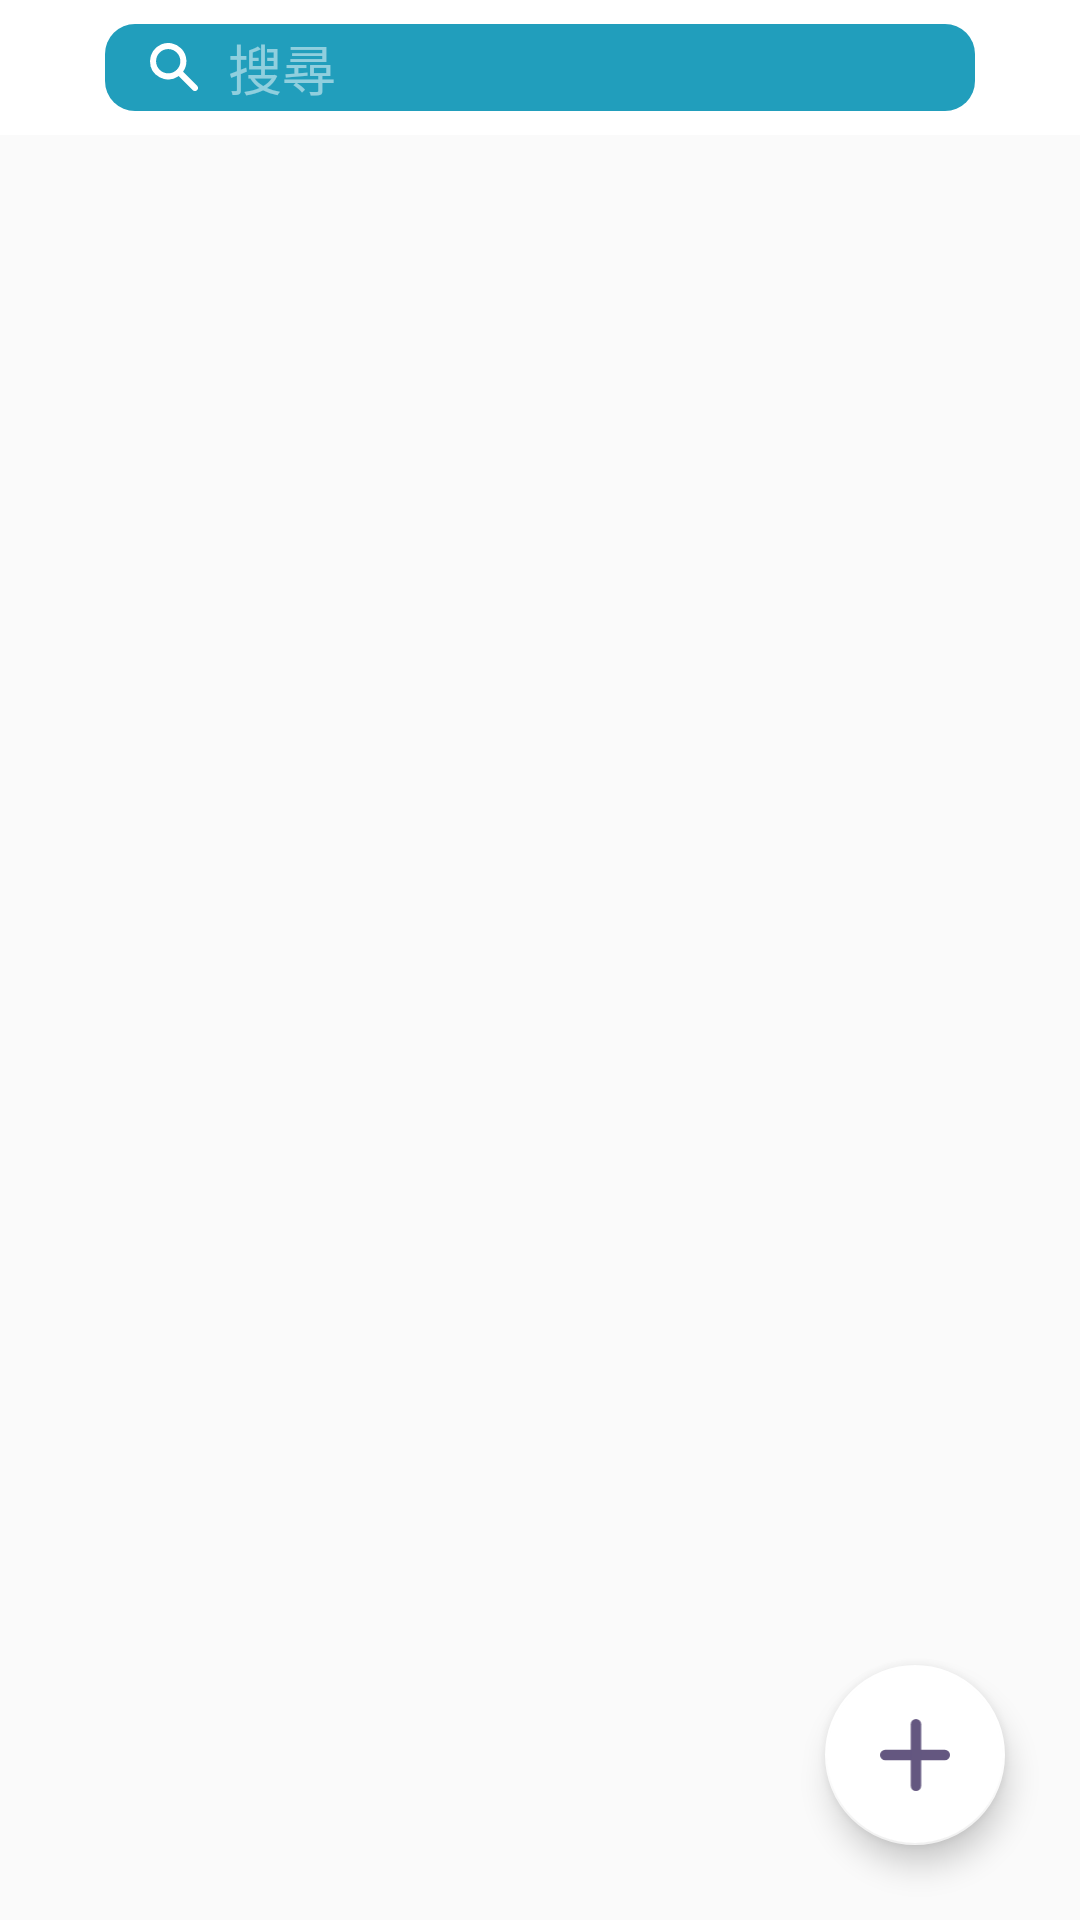

Locate icon controls on the screen. Image size 1080*1920, boxes as (left=x1, top=y1, right=x2, bottom=y2).
新增目標: (left=829, top=1719, right=1005, bottom=1845)
